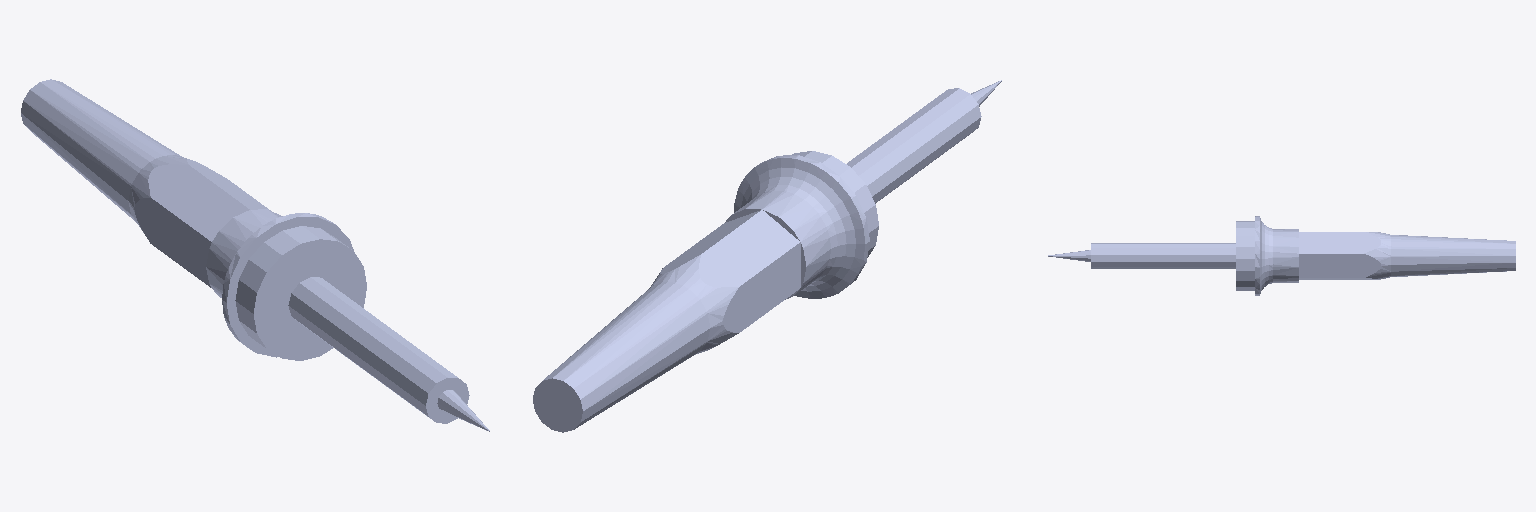
robot.urdf — Soldering Iron.SLDPRT:
<?xml version="1.0" encoding="utf-8"?>
<!-- This URDF was automatically created by SolidWorks to URDF Exporter! Originally created by [author] ([email redacted]) 
     Commit Version: 1.5.1-0-g916b5db  Build Version: 1.5.7152.31018
     For more information, please see http://wiki.ros.org/sw_urdf_exporter -->
<robot
  name="Soldering Iron.SLDPRT">
  <link
    name="Soldering Iron_urdf">
    <inertial>
      <origin
        xyz="-6.1823E-19 -0.082875 5.42049257865148E-18"
        rpy="0 0 0" />
      <mass
        value="0.040713" />
      <inertia
        ixx="6.5597E-05"
        ixy="1.2319E-21"
        ixz="-2.28199999999999E-23"
        iyy="2.2054E-06"
        iyz="2.46698780694833E-21"
        izz="6.5597E-05" />
    </inertial>
    <visual>
      <origin
        xyz="0 0 0"
        rpy="1.5707963267949 0 0" />
      <geometry>
        <mesh
          filename="package://Soldering Iron_urdf/meshes/Soldering Iron_urdf.STL" />
      </geometry>
      <material
        name="">
        <color
          rgba="0.79216 0.81961 0.93333 1" />
        <texture
          filename="package://Soldering Iron_urdf/textures/" />
      </material>
    </visual>
    <collision>
      <origin
        xyz="0 0 0"
        rpy="1.5707963267949 0 0" />
      <geometry>
        <mesh
          filename="package://Soldering Iron_urdf/meshes/Soldering Iron_urdf.STL" />
      </geometry>
    </collision>
  </link>
</robot>

--- Render facts (derived) ---
Views: 3 orthographic renders of the robot side by side, from view 1: azimuth 30°, elevation 25°; view 2: azimuth 150°, elevation 25°; view 3: azimuth 270°, elevation 25°.
Model Soldering Iron.SLDPRT with 1 links and 0 joints (none), rooted at Soldering Iron_urdf, posed every joint at zero.
Links seen in each view (by area): view 1: Soldering Iron_urdf; view 2: Soldering Iron_urdf; view 3: Soldering Iron_urdf.
Boxes of the visible links, bbox=[...] form: Soldering Iron_urdf: bbox=[21, 79, 489, 431]; Soldering Iron_urdf: bbox=[533, 80, 1001, 432]; Soldering Iron_urdf: bbox=[1048, 216, 1515, 295].
Bounding box of the posed robot: 0.0329 × 0.1938 × 0.033 m (x, y, z).
Meshes: 1 distinct files referenced, 1 mesh visuals loaded (1 binary STL).
